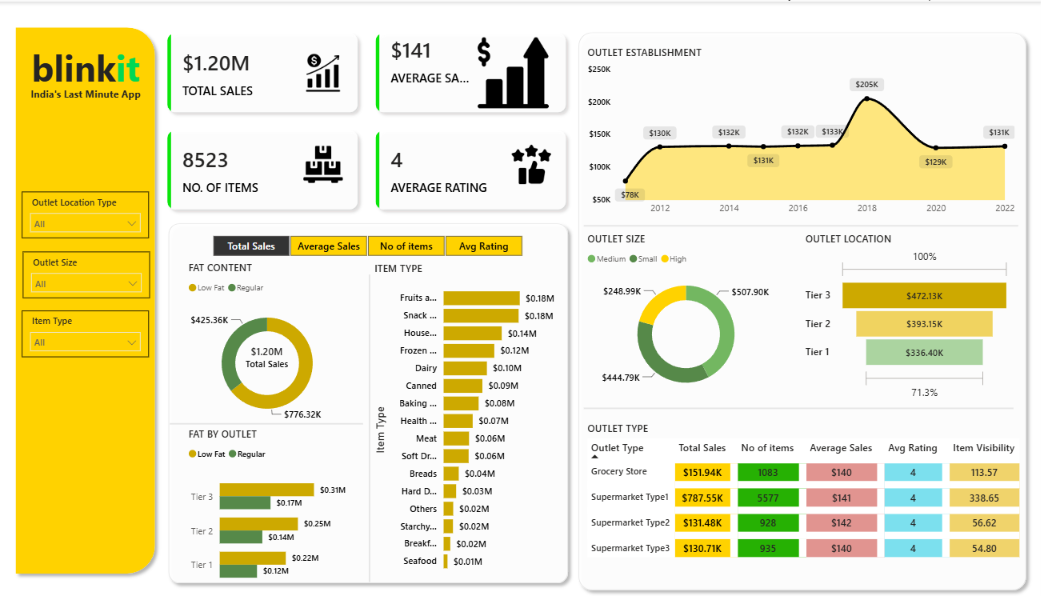

What the dashboard file says about the page in this screenshot:
{"tool":"powerbi","page":{"name":"Page 1","canvas":[1400,800],"ordinal":0},"visuals":[{"type":"shape","box":[16.7,25.1,205,750.2],"z":0},{"type":"textbox","box":[33.5,51.6,171.5,73.9],"z":1000},{"type":"textbox","box":[33.5,110.2,171.5,29.3],"z":2000},{"type":"cardVisual","fields":{"Data":["BlinkIT Grocery Data.Total Sales","BlinkIT Grocery Data.Average Sales","BlinkIT Grocery Data.No of items","BlinkIT Grocery Data.Avg Rating"]},"box":[212.3,25.3,570,270.5],"z":3000},{"type":"shape","box":[221.2,288.2,553.6,500.5],"z":4000},{"type":"donutChart","title":"FAT CONTENT","fields":{"Y":["BlinkIT Grocery Data.Total Sales"],"Category":["BlinkIT Grocery Data.Item Fat Content"]},"box":[251.5,347.6,221.2,230],"z":5000},{"type":"slicer","fields":{"Values":["Metrics.Metrics"]},"box":[264.1,307.1,463.8,40.4],"z":6000},{"type":"cardVisual","fields":{"Data":["BlinkIT Grocery Data.Total Sales"]},"box":[305.1,445.5,113.4,63.5],"z":7000},{"type":"clusteredBarChart","title":"FAT BY OUTLET","fields":{"Y":["BlinkIT Grocery Data.Total Sales"],"Category":["BlinkIT Grocery Data.Outlet Location Type"],"Series":["BlinkIT Grocery Data.Item Fat Content"]},"box":[251.5,570,221.2,227.5],"z":8000},{"type":"shape","box":[232.5,548.5,259.1,35.4],"z":9000},{"type":"shape","box":[492.9,366.5,12.6,412],"z":10000},{"type":"barChart","title":"ITEM TYPE","fields":{"Y":["BlinkIT Grocery Data.Total Sales"],"Category":["BlinkIT Grocery Data.Item Type"]},"box":[501.7,348.8,251.5,425.9],"z":11000},{"type":"shape","box":[770.9,31.6,618,765.9],"z":12000},{"type":"lineChart","title":"OUTLET ESTABLISHMENT","fields":{"Category":["BlinkIT Grocery Data.Outlet Establishment Year"],"Y":["BlinkIT Grocery Data.Total Sales"]},"box":[787.4,59.4,582.6,236.3],"z":13000},{"type":"donutChart","title":"OUTLET SIZE","fields":{"Y":["BlinkIT Grocery Data.Total Sales"],"Category":["BlinkIT Grocery Data.Outlet Size"]},"box":[787.4,308.4,274.2,230],"z":14000},{"type":"shape","box":[787.4,283.1,582.6,35.4],"z":15000},{"type":"funnel","title":"OUTLET LOCATION","fields":{"Category":["BlinkIT Grocery Data.Outlet Location Type"],"Y":["BlinkIT Grocery Data.Total Sales"]},"box":[1079.3,308.4,284.4,230],"z":16000},{"type":"shape","box":[787.4,528.3,576.3,34.1],"z":17000},{"type":"pivotTable","title":"OUTLET TYPE","fields":{"Rows":["BlinkIT Grocery Data.Outlet Type"],"Values":["BlinkIT Grocery Data.Total Sales","BlinkIT Grocery Data.No of items","BlinkIT Grocery Data.Average Sales","BlinkIT Grocery Data.Avg Rating","Sum(BlinkIT Grocery Data.Item Visibility)"]},"box":[787.4,562.4,604.1,198.4],"z":18000},{"type":"slicer","fields":{"Values":["BlinkIT Grocery Data.Outlet Location Type"]},"box":[33.5,255.2,170.1,62.7],"z":19000},{"type":"slicer","fields":{"Values":["BlinkIT Grocery Data.Outlet Size"]},"box":[34.9,334.7,170.1,62.7],"z":20000},{"type":"slicer","fields":{"Values":["BlinkIT Grocery Data.Item Type"]},"box":[33.5,414.1,170.1,62.7],"z":21000}]}

Visuals, with their boxes in screenshot pixels (x1, y1, x2, y2), scaled from the page's 1400x800 canvas onto the 1041x596 screenshot:
shape: 12 19 165 578
textbox: 25 38 152 93
textbox: 25 82 152 104
cardVisual - BlinkIT Grocery Data.Total Sales x BlinkIT Grocery Data.Average Sales: 158 19 582 220
shape: 164 215 576 588
"FAT CONTENT" donutChart: 187 259 351 430
slicer - Metrics.Metrics: 196 229 541 259
cardVisual - BlinkIT Grocery Data.Total Sales: 227 332 311 379
"FAT BY OUTLET" clusteredBarChart: 187 425 351 594
shape: 173 409 366 435
shape: 367 273 376 580
"ITEM TYPE" barChart: 373 260 560 577
shape: 573 24 1033 594
"OUTLET ESTABLISHMENT" lineChart: 585 44 1019 220
"OUTLET SIZE" donutChart: 585 230 789 401
shape: 585 211 1019 237
"OUTLET LOCATION" funnel: 803 230 1014 401
shape: 585 394 1014 419
"OUTLET TYPE" pivotTable: 585 419 1035 567
slicer - BlinkIT Grocery Data.Outlet Location Type: 25 190 151 237
slicer - BlinkIT Grocery Data.Outlet Size: 26 249 152 296
slicer - BlinkIT Grocery Data.Item Type: 25 309 151 355
